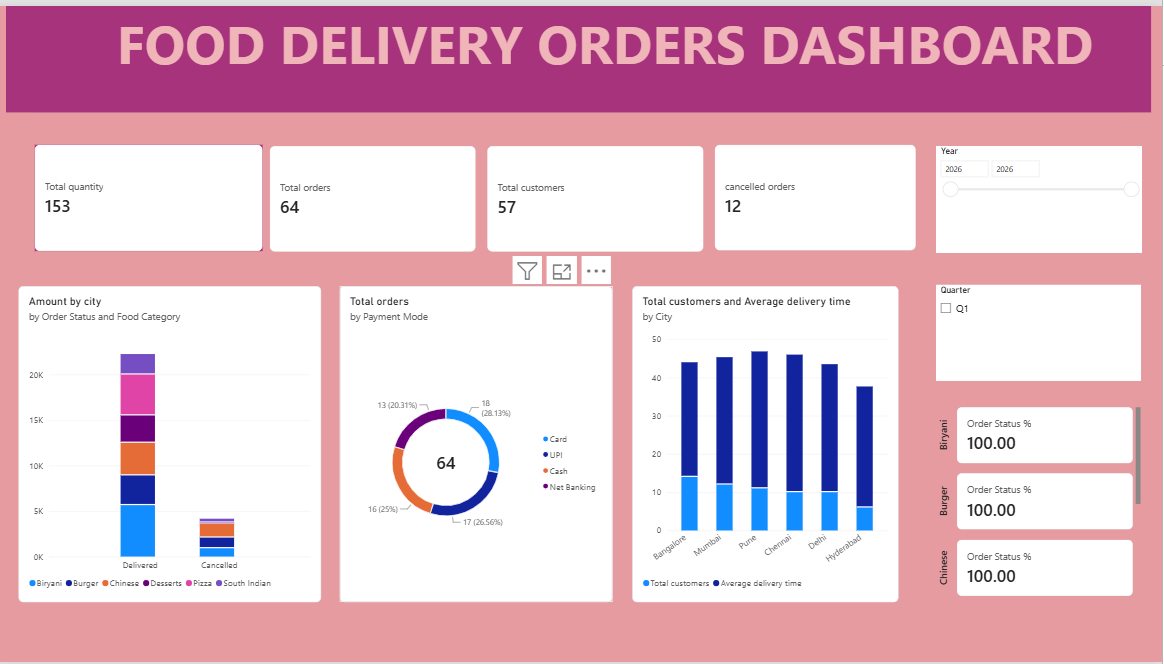

The page's visual inventory and layout, read from the dashboard file:
{"tool":"powerbi","page":{"name":"Dashboard","canvas":[1920,1080],"ordinal":2},"visuals":[{"type":"shape","box":[16.5,0,1885.4,175],"z":0},{"type":"textbox","box":[16.5,0,1885.4,175],"z":1000},{"type":"textbox","box":[115,433.5,375,175],"z":6000},{"type":"textbox","box":[115,661.5,375,175],"z":7000},{"type":"cardVisual","fields":{"Data":["Food Delivery.Total quantity"]},"box":[63.8,228.5,375,175],"z":9003},{"type":"cardVisual","fields":{"Data":["Food Delivery.Total orders"]},"box":[450.8,230.5,339.6,175],"z":9004},{"type":"cardVisual","fields":{"Data":["Food Delivery.Total customers"]},"box":[808.9,230.5,356.1,175],"z":9005},{"type":"cardVisual","fields":{"Data":["Food Delivery.cancelled orders"]},"box":[1183.5,228.5,331.4,175],"z":9006},{"type":"columnChart","fields":{"Category":["Food Delivery.Order Status"],"Series":["Food Delivery.Food Category"],"Y":["Food Delivery.Amount by city"]},"box":[37,461.1,498.1,520.8],"z":9007},{"type":"donutChart","fields":{"Category":["Food Delivery.Payment Mode"],"Y":["Food Delivery.Total orders"]},"box":[566,461.1,448.7,520.8],"z":9008},{"type":"columnChart","fields":{"Category":["Food Delivery.City"],"Y":["Food Delivery.Total customers","Food Delivery.Average delivery time"]},"box":[1047.7,461.1,438.4,520.8],"z":9009},{"type":"slicer","fields":{"Values":["DateTable.Year"]},"box":[1547.9,230.5,337.6,175],"z":9010},{"type":"slicer","fields":{"Values":["DateTable.Quarter"]},"box":[1547.9,459,337.6,158.5],"z":9011},{"type":"cardVisual","fields":{"Data":["Food Delivery.Order Status %"],"Rows":["Food Delivery.Food Category"]},"box":[1547.9,660.7,337.6,321.1],"z":9012}]}

Visuals, with their boxes in screenshot pixels (x1, y1, x2, y2), scaled from the page's 1920x1080 canvas onto the 1164x664 screenshot:
shape: 10, 0, 1153, 108
textbox: 10, 0, 1153, 108
textbox: 70, 267, 297, 374
textbox: 70, 407, 297, 514
cardVisual - Food Delivery.Total quantity: 39, 140, 266, 248
cardVisual - Food Delivery.Total orders: 273, 142, 479, 249
cardVisual - Food Delivery.Total customers: 490, 142, 706, 249
cardVisual - Food Delivery.cancelled orders: 717, 140, 918, 248
columnChart - Food Delivery.Order Status x Food Delivery.Food Category: 22, 283, 324, 604
donutChart - Food Delivery.Payment Mode x Food Delivery.Total orders: 343, 283, 615, 604
columnChart - Food Delivery.City x Food Delivery.Total customers: 635, 283, 901, 604
slicer - DateTable.Year: 938, 142, 1143, 249
slicer - DateTable.Quarter: 938, 282, 1143, 380
cardVisual - Food Delivery.Order Status % x Food Delivery.Food Category: 938, 406, 1143, 604
